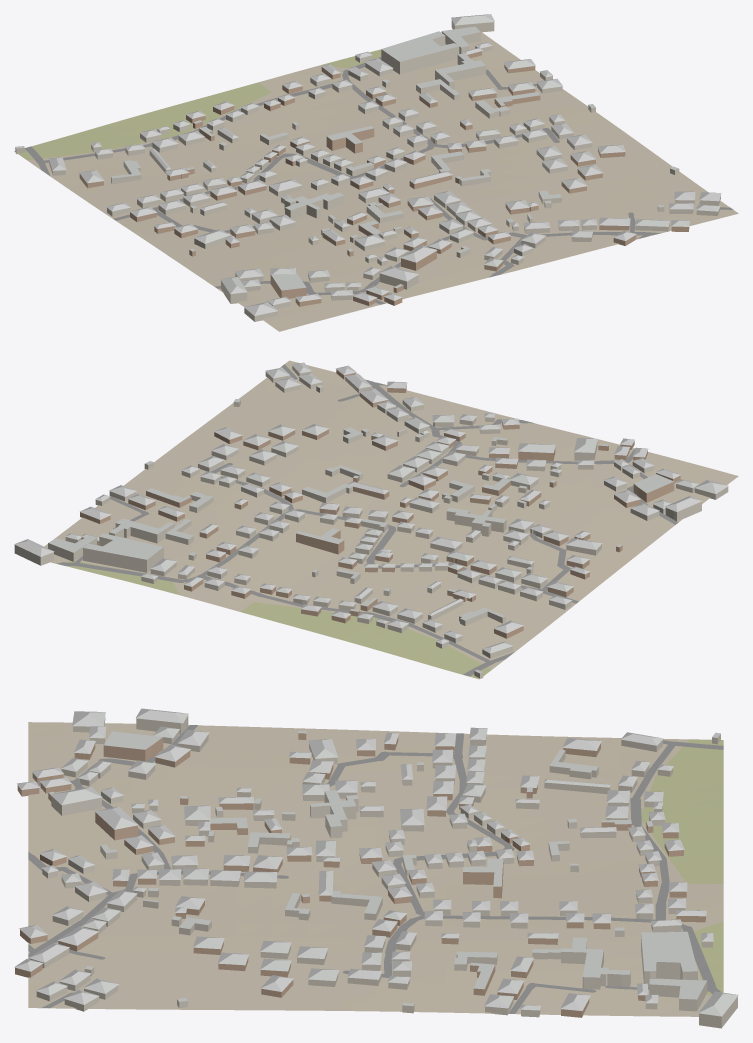
File: bolak_5_-10.glb
The picture shows the model from 3 angles, top to bottom: view 1: azimuth 30°, elevation 25°; view 2: azimuth 150°, elevation 25°; view 3: azimuth 270°, elevation 25°; orthographic projection. The views are drawn at different scales.
Parts seen in each view (by area): view 1: Yer_Tuproq-col, Tom_Shifer, Devor_Suvoq-col, Devor_Gisht-col, Yer_Dala, Yol_Mahalla-col; view 2: Yer_Tuproq-col, Tom_Shifer, Devor_Suvoq-col, Devor_Gisht-col, Yer_Dala, Yol_Mahalla-col; view 3: Yer_Tuproq-col, Tom_Shifer, Devor_Suvoq-col, Devor_Gisht-col, Yer_Dala, Yol_Mahalla-col.
Part boxes in pixels (bbox=[...]): Yer_Tuproq-col: bbox=[27, 32, 738, 331]; Tom_Shifer: bbox=[15, 14, 721, 315]; Devor_Suvoq-col: bbox=[15, 20, 720, 321]; Devor_Gisht-col: bbox=[79, 51, 689, 306]; Yer_Dala: bbox=[14, 49, 381, 160]; Yol_Mahalla-col: bbox=[25, 44, 733, 304]; Yer_Tuproq-col: bbox=[44, 360, 738, 669]; Tom_Shifer: bbox=[14, 362, 728, 673]; Devor_Suvoq-col: bbox=[14, 366, 728, 678]; Devor_Gisht-col: bbox=[80, 369, 680, 638]; Yer_Dala: bbox=[65, 560, 491, 679]; Yol_Mahalla-col: bbox=[57, 364, 678, 676]; Yer_Tuproq-col: bbox=[28, 722, 723, 1016]; Tom_Shifer: bbox=[14, 708, 738, 1016]; Devor_Suvoq-col: bbox=[29, 715, 737, 1028]; Devor_Gisht-col: bbox=[15, 733, 705, 1017]; Yer_Dala: bbox=[641, 739, 723, 995]; Yol_Mahalla-col: bbox=[28, 725, 723, 1013].
Size of what is drawn, in the model's own units: 421 by 24.2 by 417.
